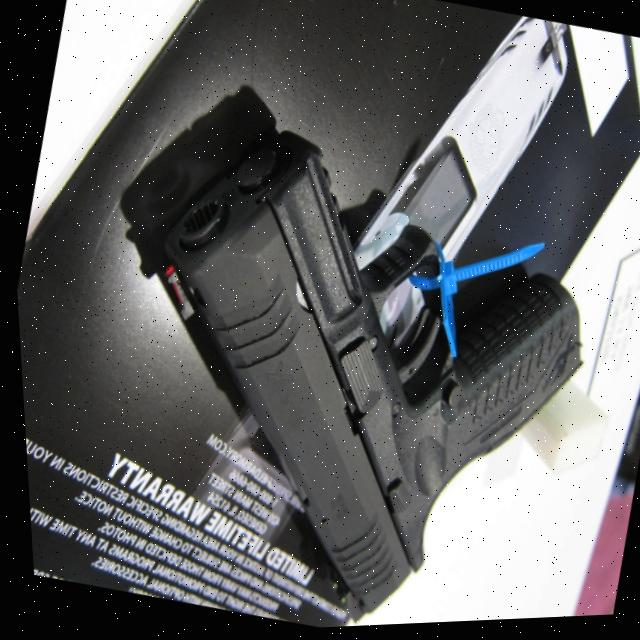pistol: (81, 102, 623, 637)
